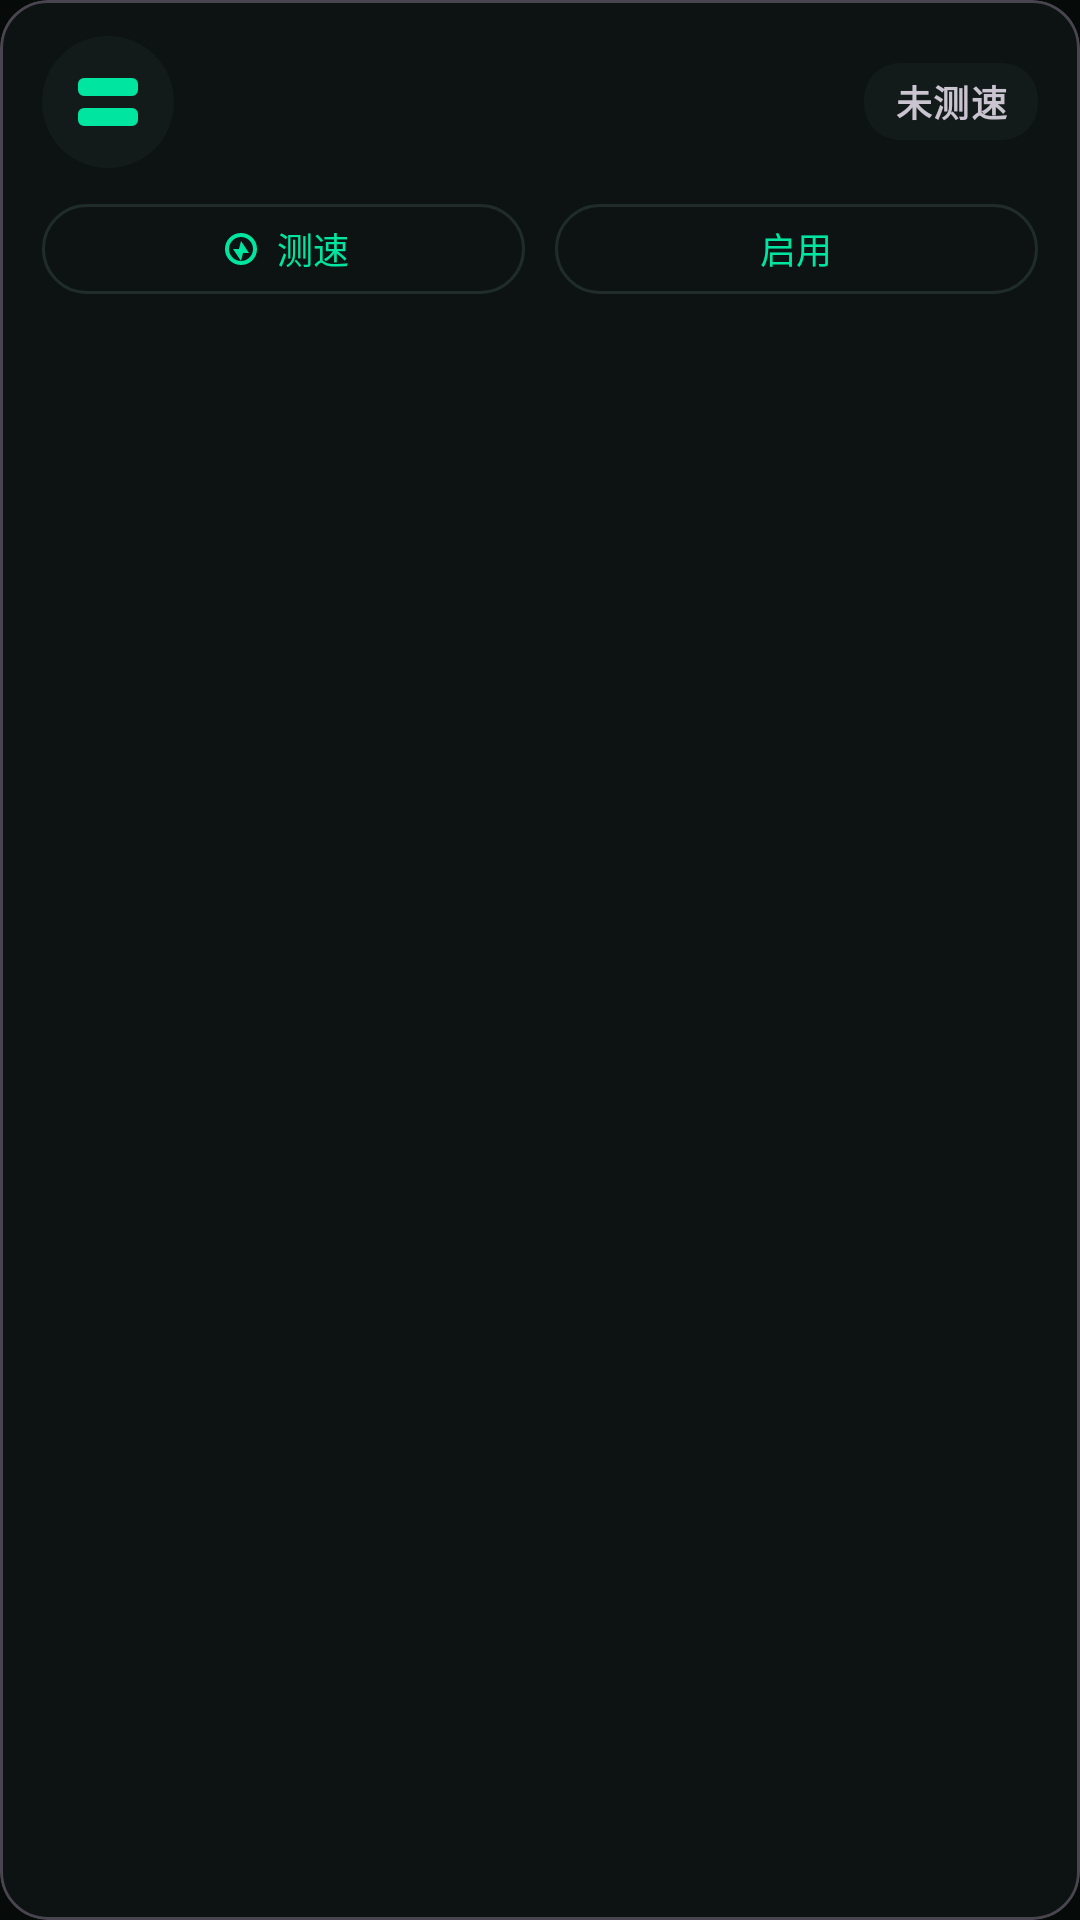

Where icons sit on this 1080*1920 app screen, as (x1=x1, y1=y1, x2=x2, y2=y2):
Server: (x1=78, y1=78, x2=138, y2=126)
